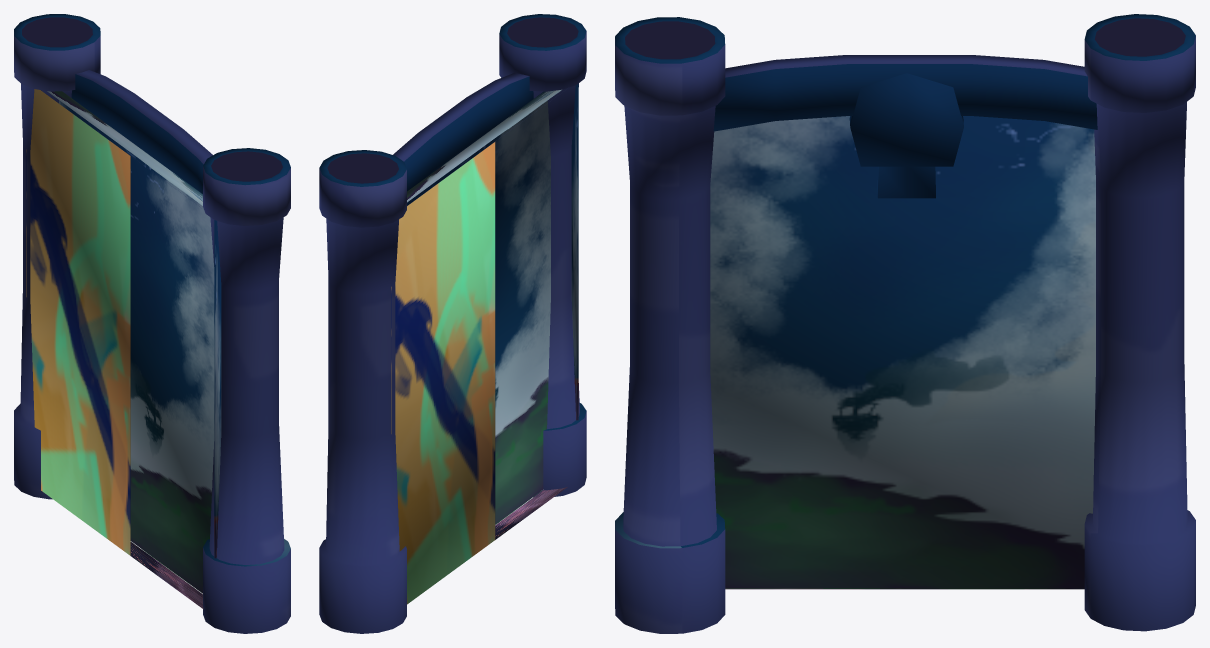
Rendered from PinturaOceano.fbx.
3 views of the same model, side by side, from view 1: azimuth 30°, elevation 25°; view 2: azimuth 150°, elevation 25°; view 3: azimuth 270°, elevation 25° (orthographic). The views are drawn at different scales.
Visible parts, largest first — view 1: PinturaOceano; view 2: PinturaOceano; view 3: PinturaOceano.
Boxes of the visible parts, bbox=[...] form: PinturaOceano: bbox=[14, 14, 290, 633]; PinturaOceano: bbox=[319, 14, 586, 633]; PinturaOceano: bbox=[615, 14, 1195, 633].
Size of the model in its own units: 92.02 by 455 by 492.
